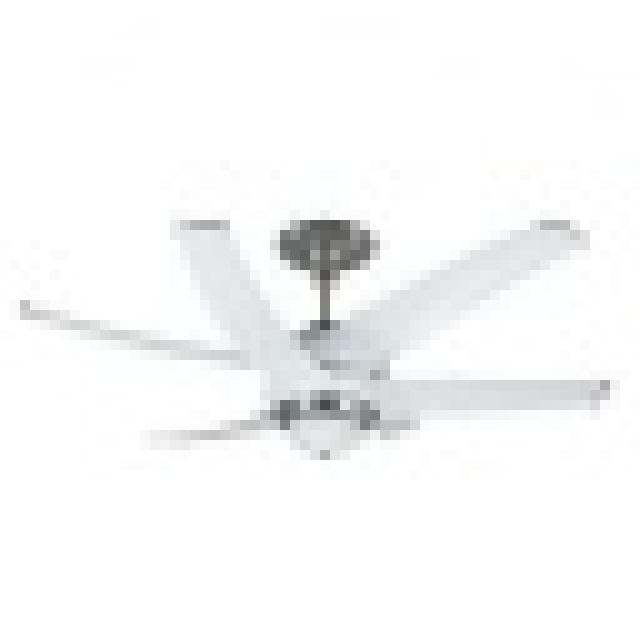Bulb: (10, 170, 640, 490)
